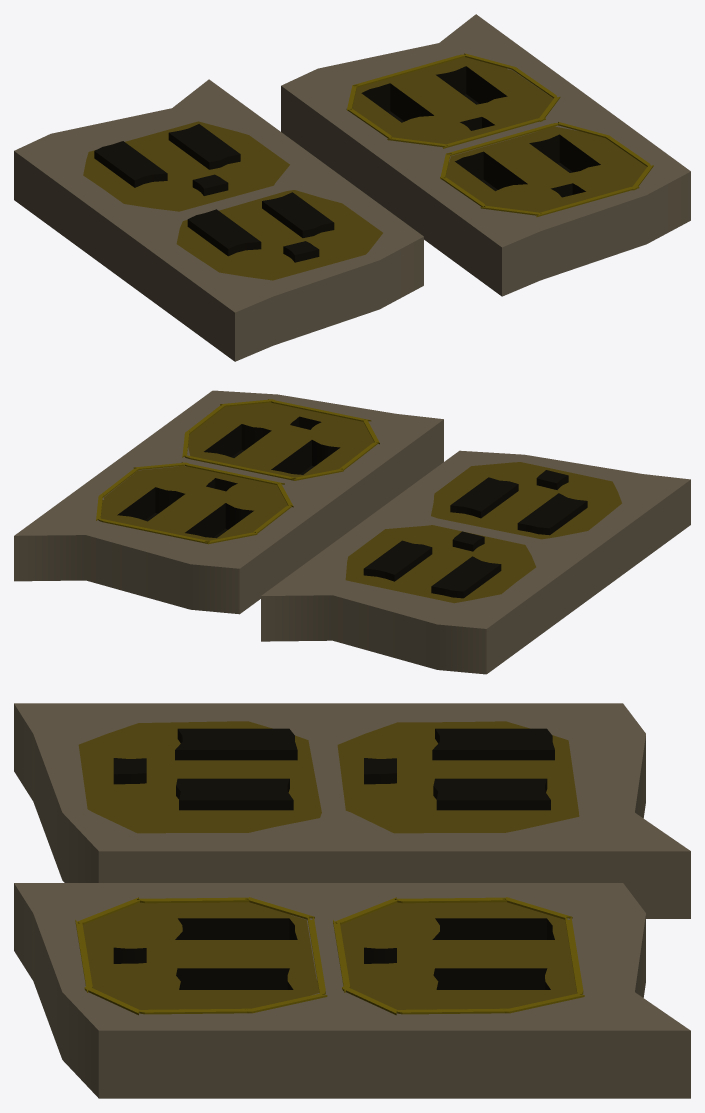
Rendered from AncientPlug.fbx.
3 renders of one model, top to bottom at view 1: azimuth 30°, elevation 25°; view 2: azimuth 150°, elevation 25°; view 3: azimuth 270°, elevation 25°, orthographic. The views are drawn at different scales.
Parts seen in each view (by area): view 1: AncientPlug, plugBase1, plugLeft2, plugLeft1, plugRight1, plugRight2, plugLeft4, plugLeft3; view 2: AncientPlug, plugBase1, plugLeft2, plugLeft1, plugRight1, plugRight2, plugLeft3, plugLeft4; view 3: AncientPlug, plugBase1, plugLeft2, plugLeft1, plugRight1, plugRight2, plugLeft4, plugLeft3.
Part boxes in pixels (x1,y1,x2,y2): AncientPlug: (281, 14, 690, 296); plugBase1: (14, 79, 423, 361); plugLeft2: (187, 209, 261, 256); plugLeft1: (94, 141, 167, 187); plugRight1: (168, 124, 240, 169); plugRight2: (262, 192, 334, 237); plugLeft4: (283, 241, 319, 262); plugLeft3: (192, 174, 228, 195); AncientPlug: (14, 390, 443, 614); plugBase1: (261, 450, 690, 674); plugLeft2: (517, 493, 587, 535); plugLeft1: (431, 556, 501, 598); plugRight1: (363, 540, 432, 581); plugRight2: (450, 477, 518, 518); plugLeft3: (452, 531, 484, 551); plugLeft4: (536, 470, 568, 489); AncientPlug: (14, 883, 690, 1098); plugBase1: (14, 703, 690, 918); plugLeft2: (175, 728, 297, 760); plugLeft1: (432, 728, 554, 760); plugRight1: (433, 778, 550, 810); plugRight2: (176, 778, 293, 810); plugLeft4: (113, 758, 146, 784); plugLeft3: (364, 758, 396, 784).
Bounding box in the file's own units: 4.92 × 0.5467 × 4.3.
